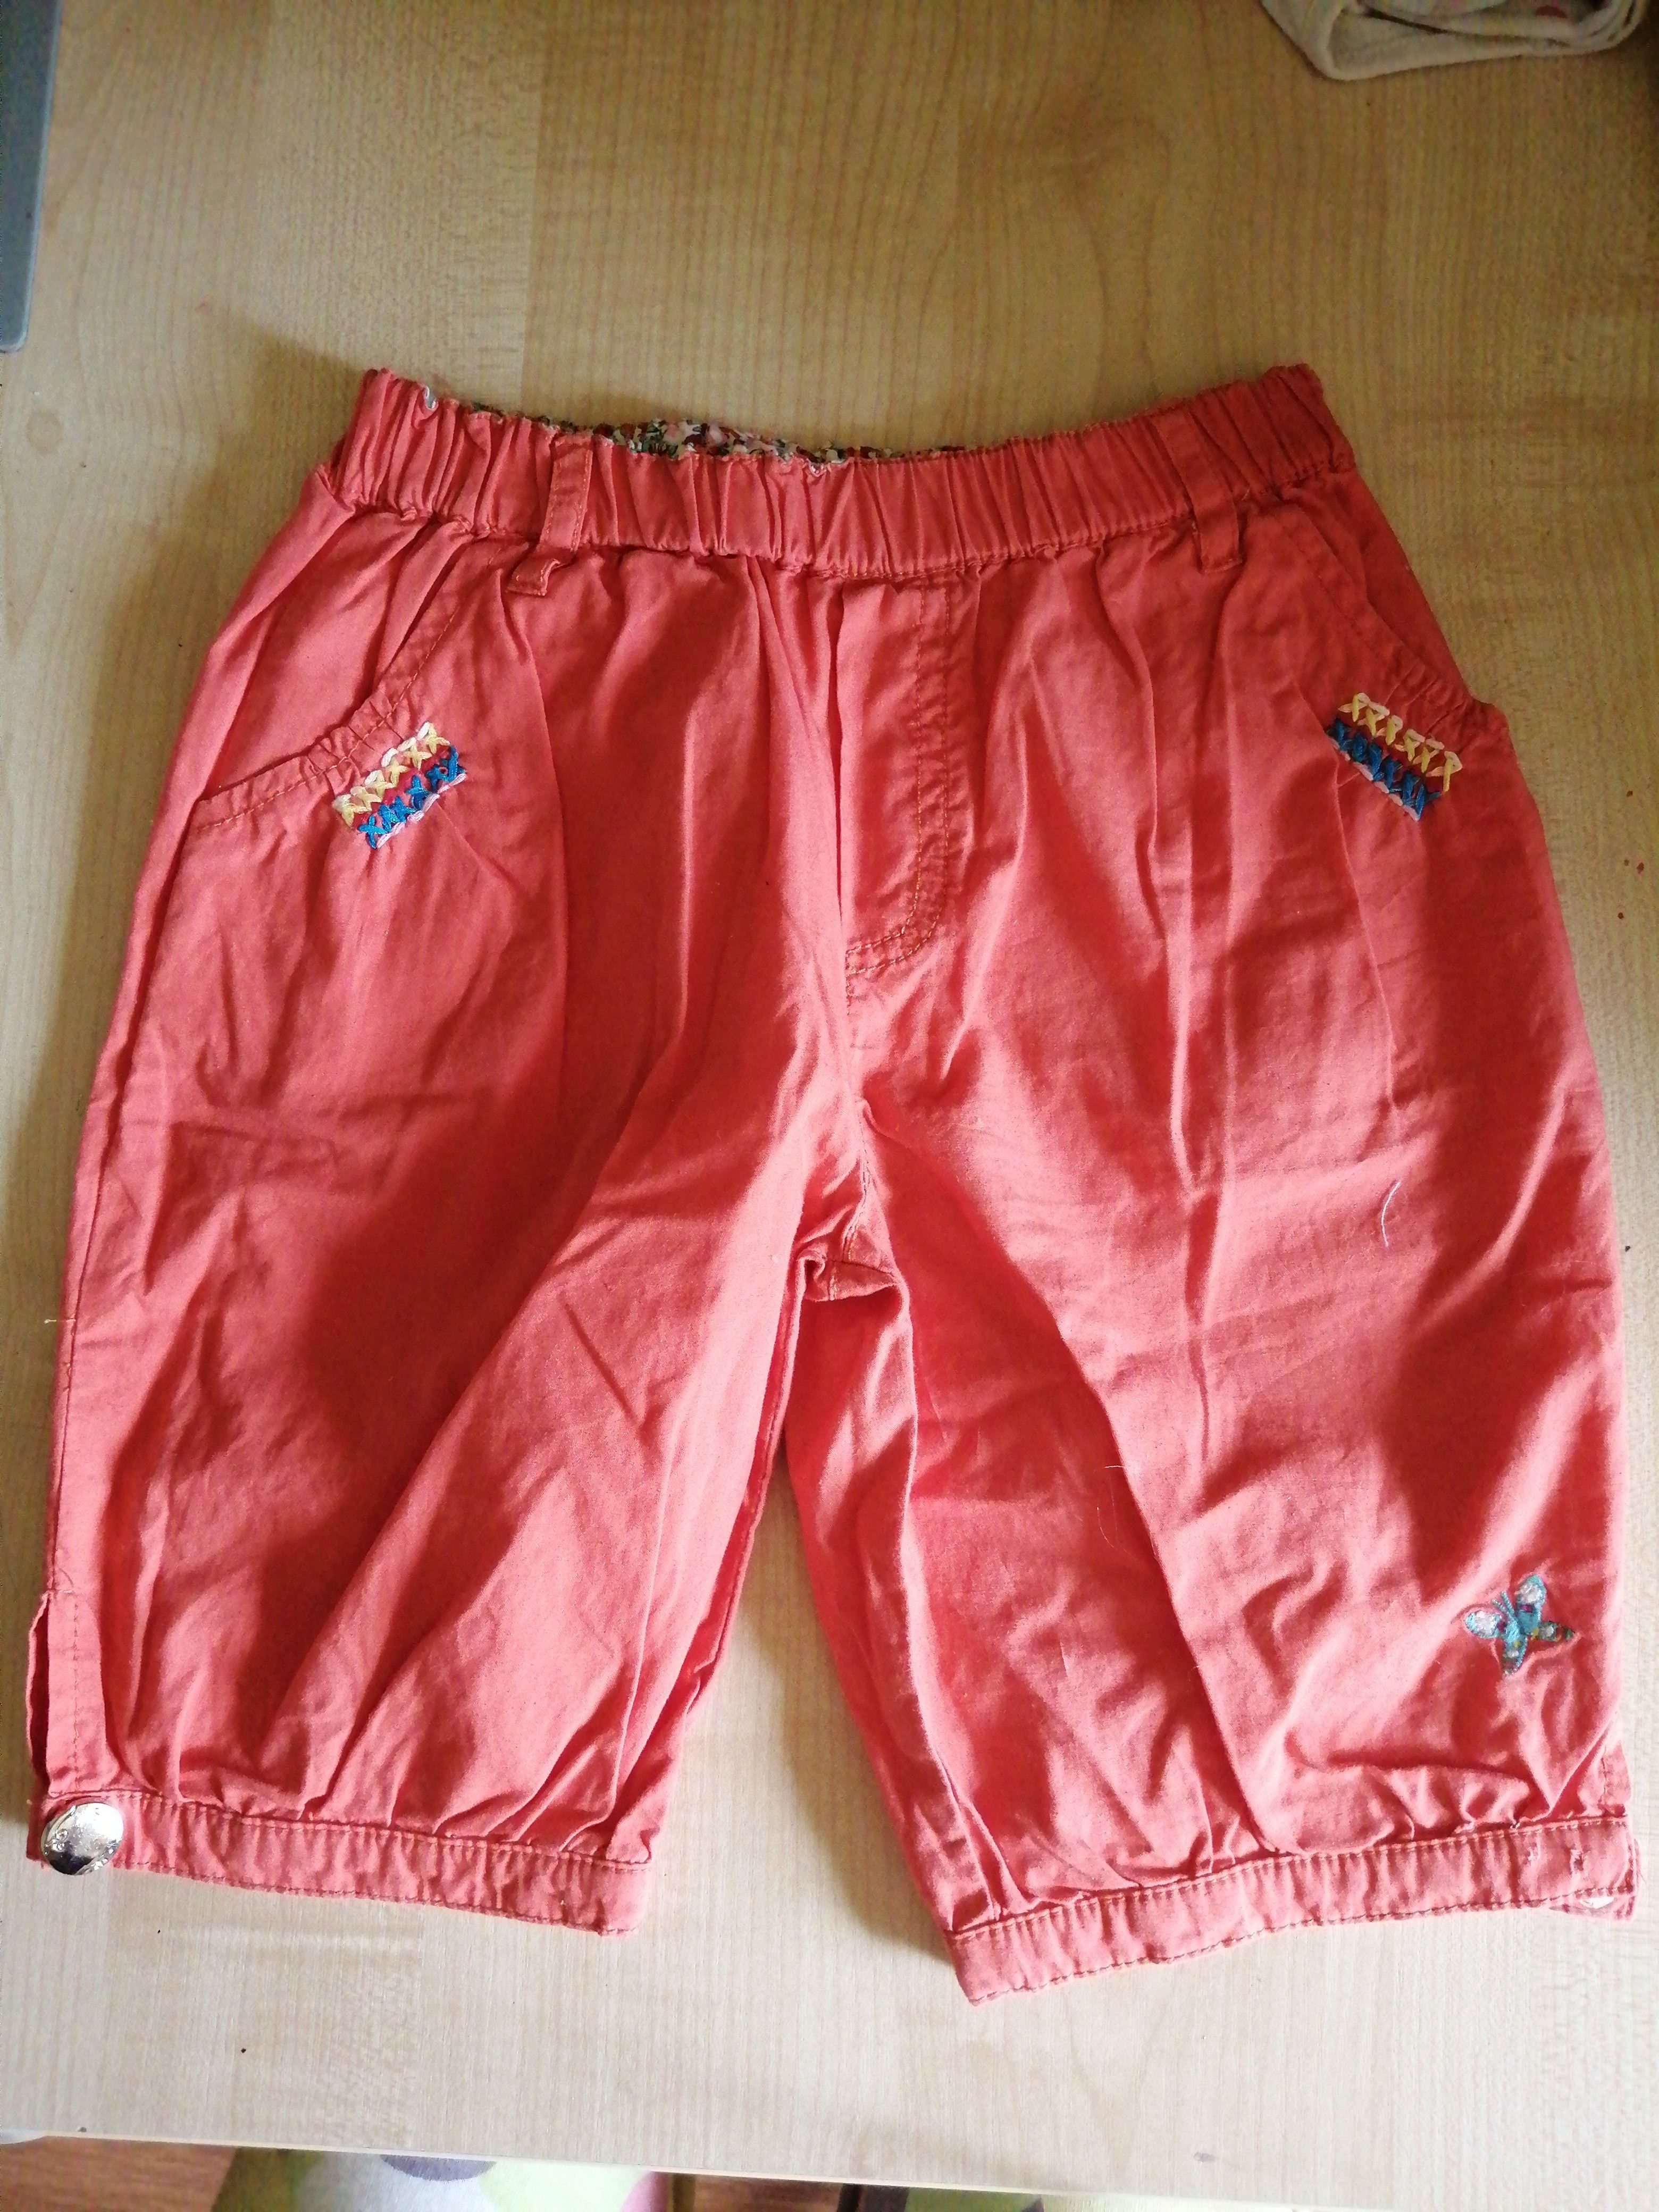clothes: (30, 364, 1659, 1947)
